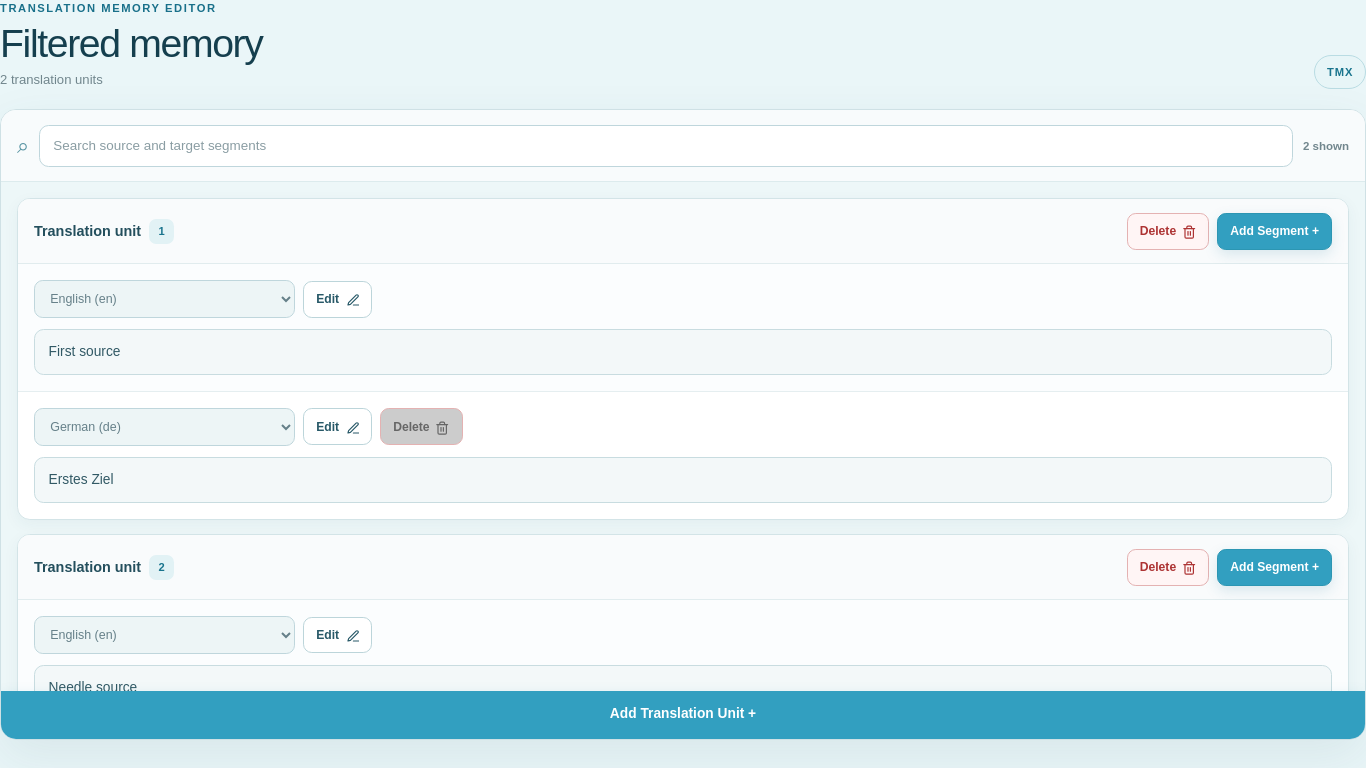
real CAT application route › edits the displayed TM record after filtering without corrupting another record
Step 1. Type "Needle source" into the field with class "search-input" → (666, 146), box [40, 125, 1292, 167]
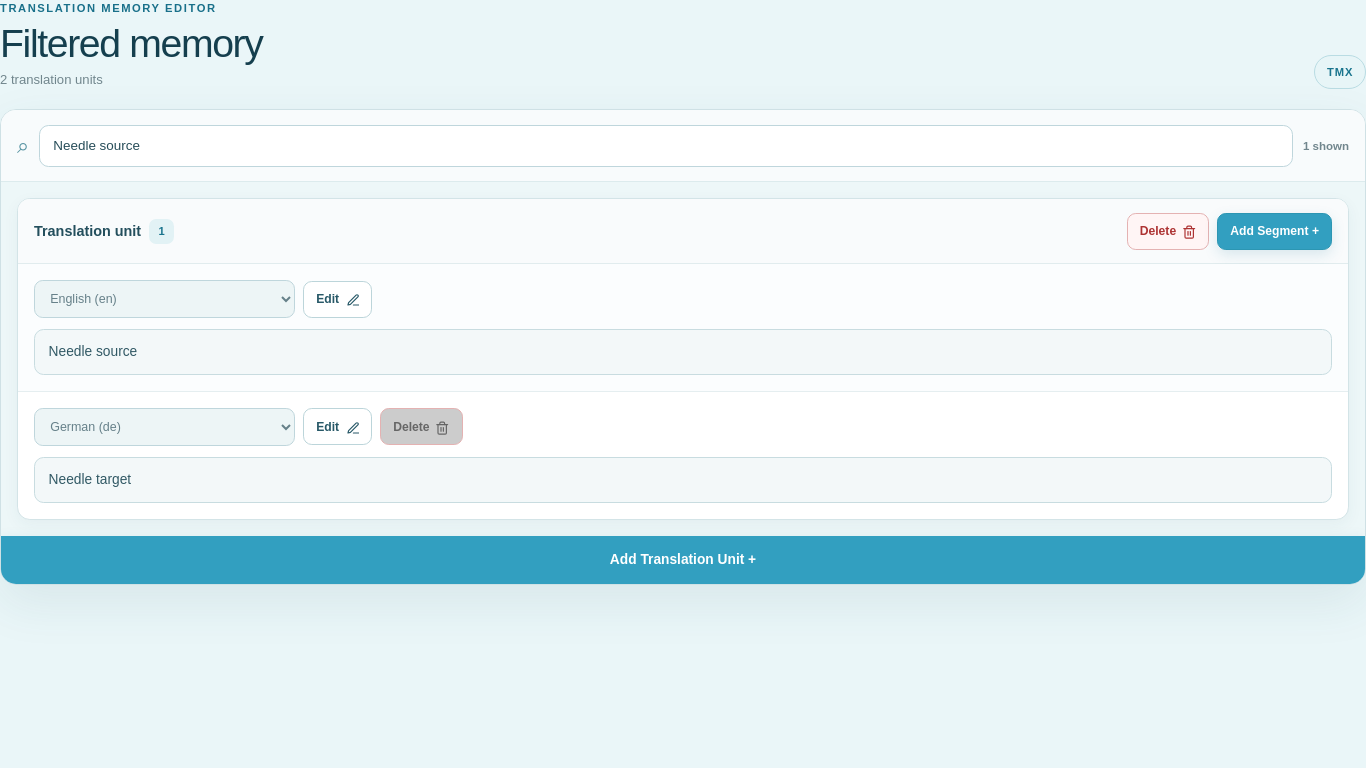
Check: the number of elements with class "resource-unit-card" is 1, box [17, 198, 1349, 520]
Step 2. Click the 1st button "Edit" → (338, 299), box [303, 281, 372, 318]
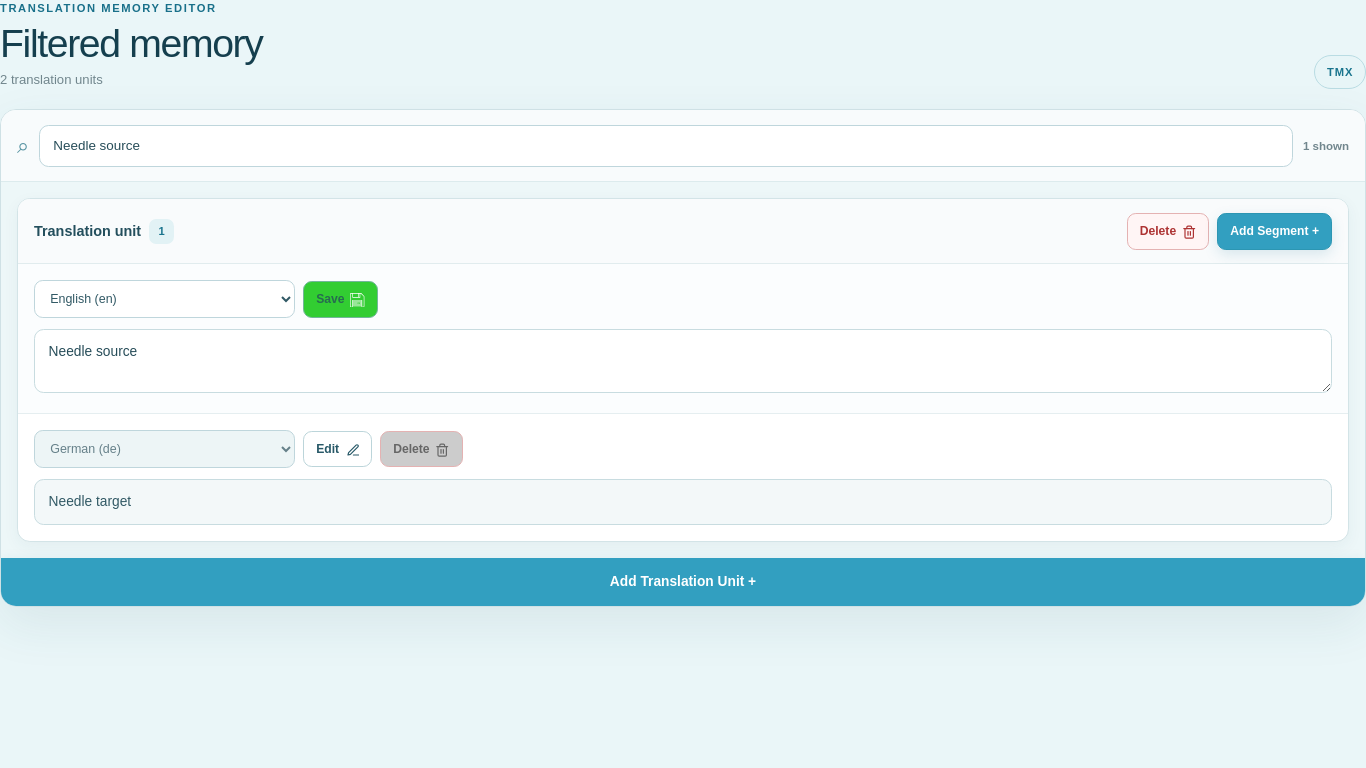
Step 3. Replace the text in the text box with "Edited needle" → (683, 361), box [34, 329, 1332, 393]
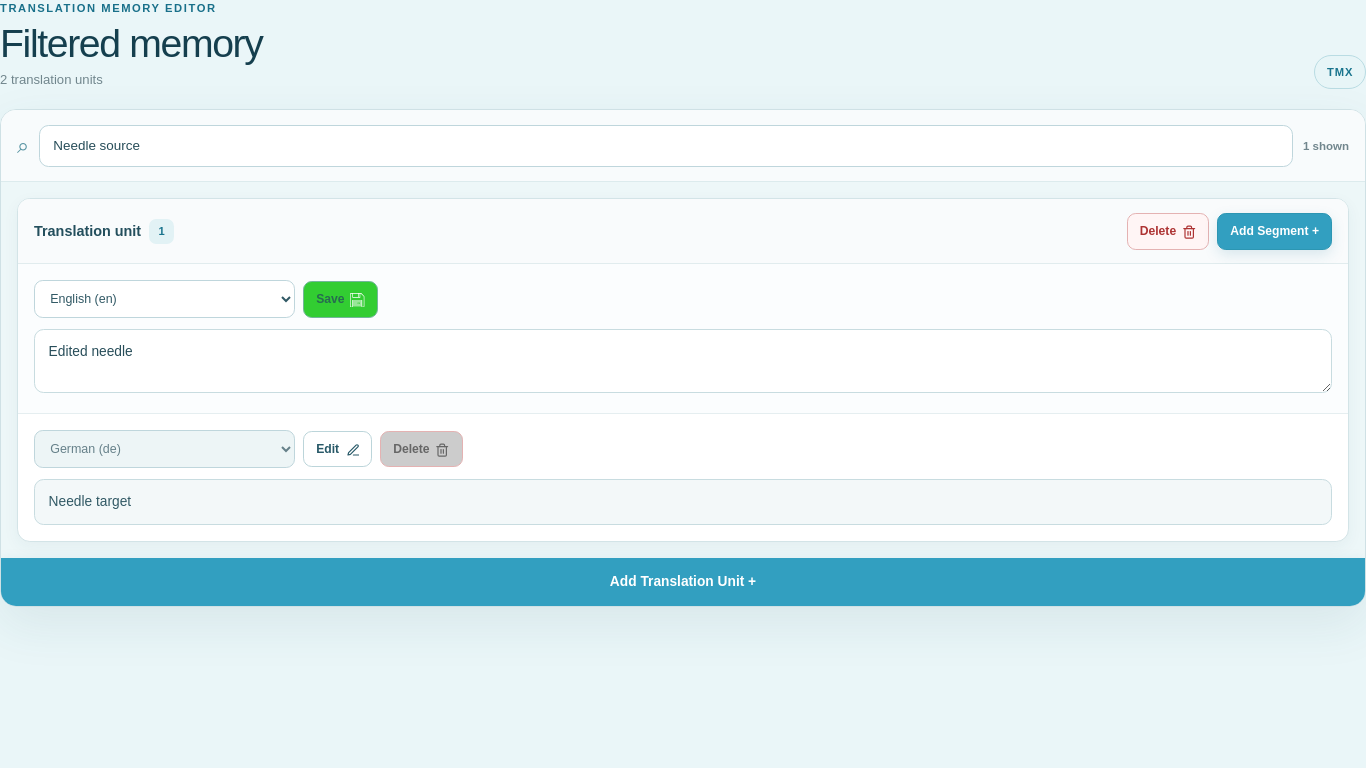
Step 4. Click the button "Save" → (340, 299), box [303, 281, 378, 318]
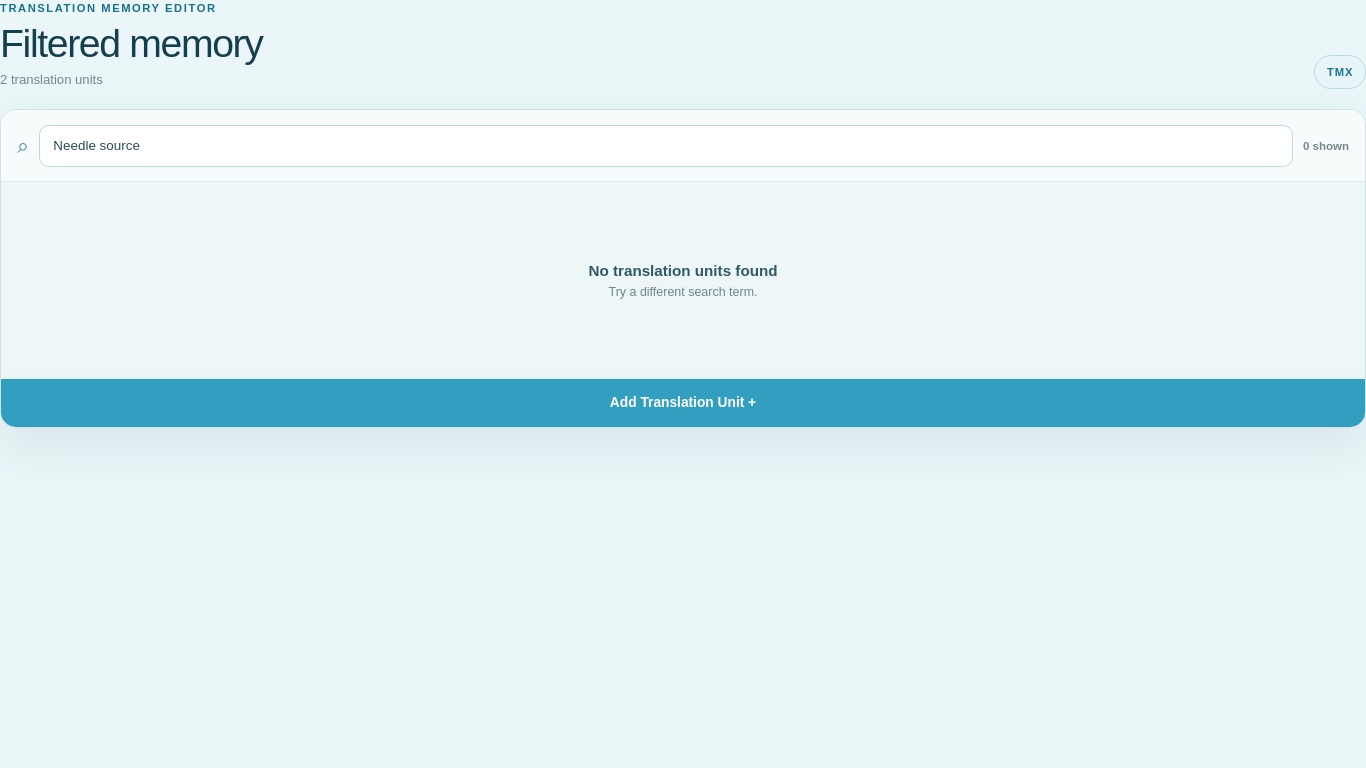
Check: the text box is gone
